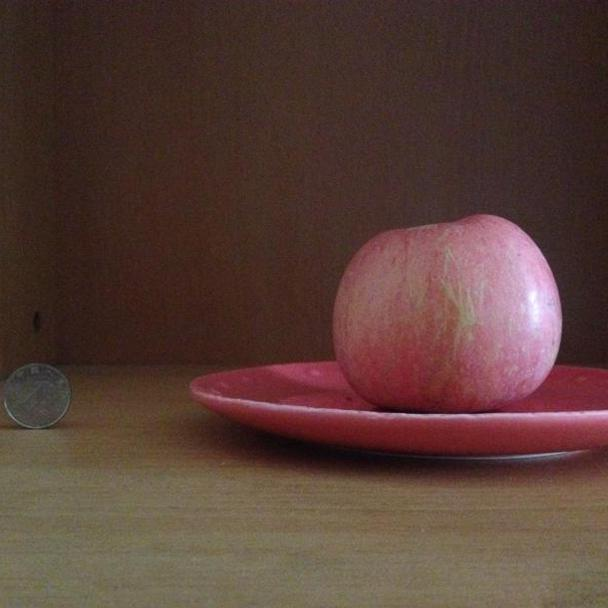apple: (331, 210, 569, 413)
